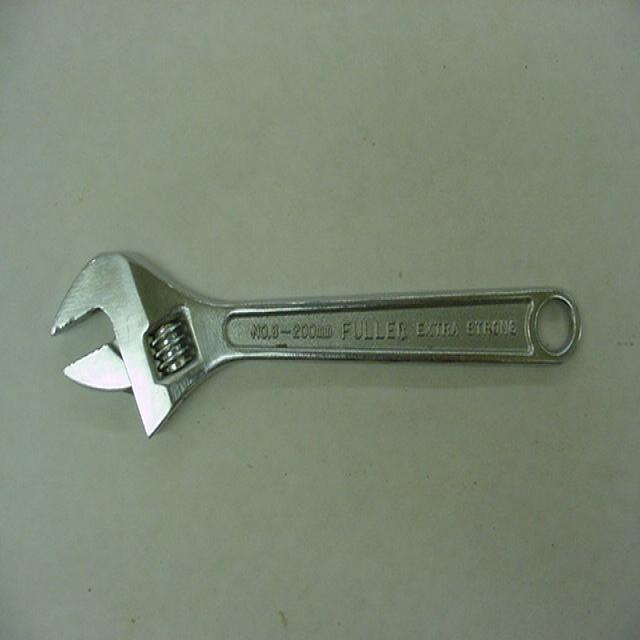wrench: (19, 216, 636, 485)
